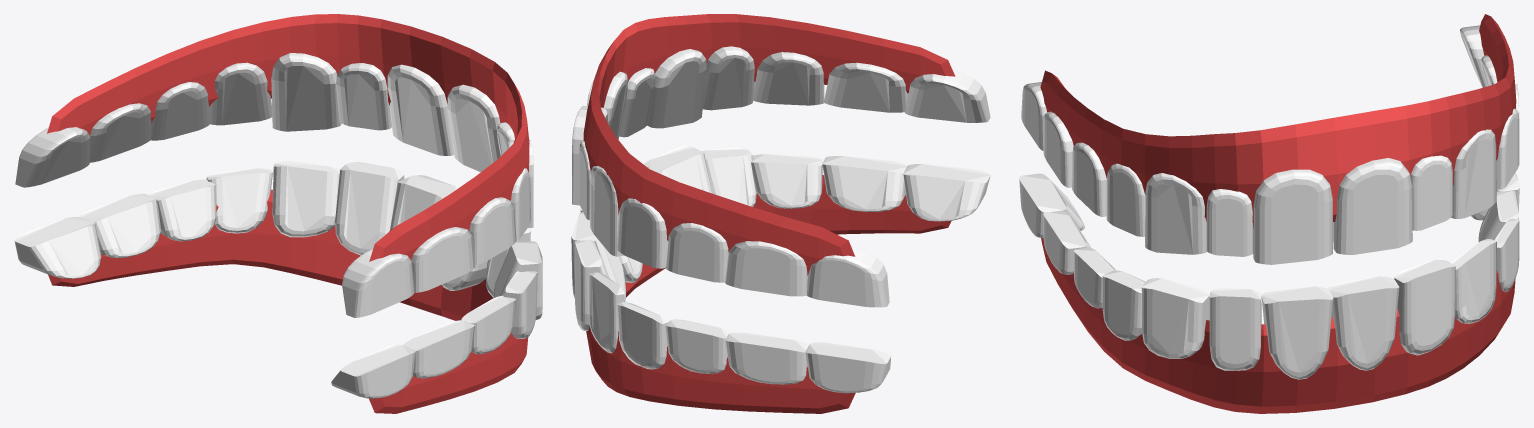
Rendered from 630546ef-d90c-4512-bba7-2a5c3330e587.glb.
The picture shows the model from 3 angles, left to right: view 1: azimuth 30°, elevation 25°; view 2: azimuth 150°, elevation 25°; view 3: azimuth 270°, elevation 25°; orthographic projection. The views are drawn at different scales.
Visible parts, largest first — view 1: Box015, Box030, Box005, Box021, Box022, Box002, Box028, Box014, Box001, Box017, Box010, Box024 (+16 smaller); view 2: Box015, Box030, Box027, Box016, Box010, Box009, Box006, Box017, Box028, Box014, Box025, Box013 (+17 smaller); view 3: Box015, Box030, Box001, Box002, Box031, Box020, Box021, Box023, Box006, Box019, Box005, Box022 (+14 smaller).
Boxes of the visible parts, left/top/right/bottom form: Box015: left=47, top=14, right=529, bottom=261; Box030: left=48, top=189, right=528, bottom=413; Box005: left=271, top=53, right=341, bottom=131; Box021: left=335, top=162, right=404, bottom=255; Box022: left=272, top=161, right=339, bottom=237; Box002: left=387, top=64, right=453, bottom=155; Box028: left=14, top=216, right=101, bottom=278; Box014: left=342, top=249, right=414, bottom=317; Box001: left=447, top=84, right=500, bottom=172; Box017: left=79, top=193, right=161, bottom=257; Box010: left=15, top=127, right=90, bottom=187; Box024: left=206, top=168, right=272, bottom=233; Box015: left=583, top=14, right=955, bottom=275; Box030: left=586, top=175, right=951, bottom=413; Box027: left=903, top=164, right=990, bottom=221; Box016: left=822, top=156, right=907, bottom=211; Box010: left=807, top=246, right=889, bottom=307; Box009: left=725, top=241, right=807, bottom=296; Box006: left=647, top=49, right=706, bottom=128; Box017: left=725, top=332, right=808, bottom=384; Box028: left=805, top=342, right=891, bottom=393; Box014: left=905, top=70, right=990, bottom=122; Box025: left=751, top=154, right=822, bottom=208; Box013: left=824, top=62, right=908, bottom=112; Box015: left=1040, top=14, right=1516, bottom=227; Box030: left=1041, top=238, right=1515, bottom=413; Box001: left=1253, top=169, right=1332, bottom=264; Box002: left=1333, top=158, right=1412, bottom=254; Box031: left=1261, top=286, right=1333, bottom=379; Box020: left=1328, top=276, right=1399, bottom=370; Box021: left=1394, top=260, right=1455, bottom=355; Box023: left=1141, top=278, right=1209, bottom=358; Box006: left=1145, top=173, right=1206, bottom=254; Box019: left=1209, top=288, right=1261, bottom=370; Box005: left=1451, top=129, right=1496, bottom=218; Box022: left=1451, top=239, right=1496, bottom=323.
Bounding box in the file's own units: 437665 × 298396 × 464826.
